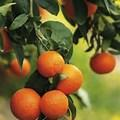orange: (10, 84, 42, 116), (89, 46, 119, 77), (56, 61, 82, 94), (37, 49, 66, 74), (45, 90, 67, 117)
